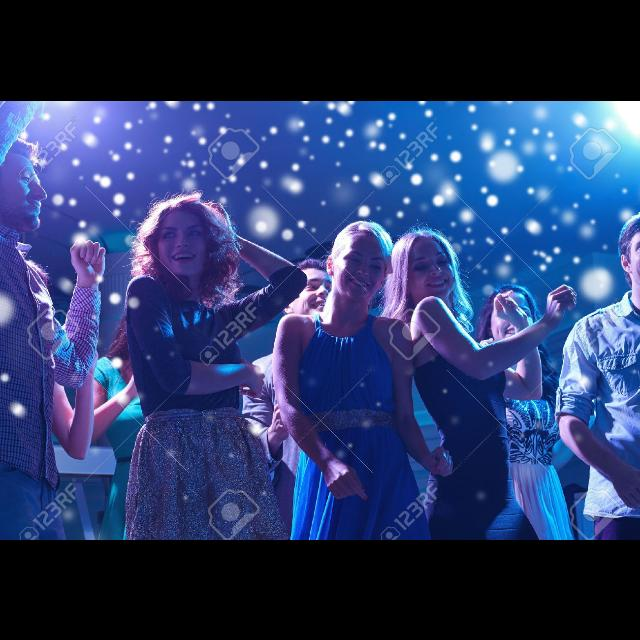head: (326, 220, 392, 302), (0, 138, 48, 232), (156, 205, 218, 275), (394, 232, 456, 298), (282, 256, 342, 324), (488, 286, 538, 348), (122, 303, 160, 353)
